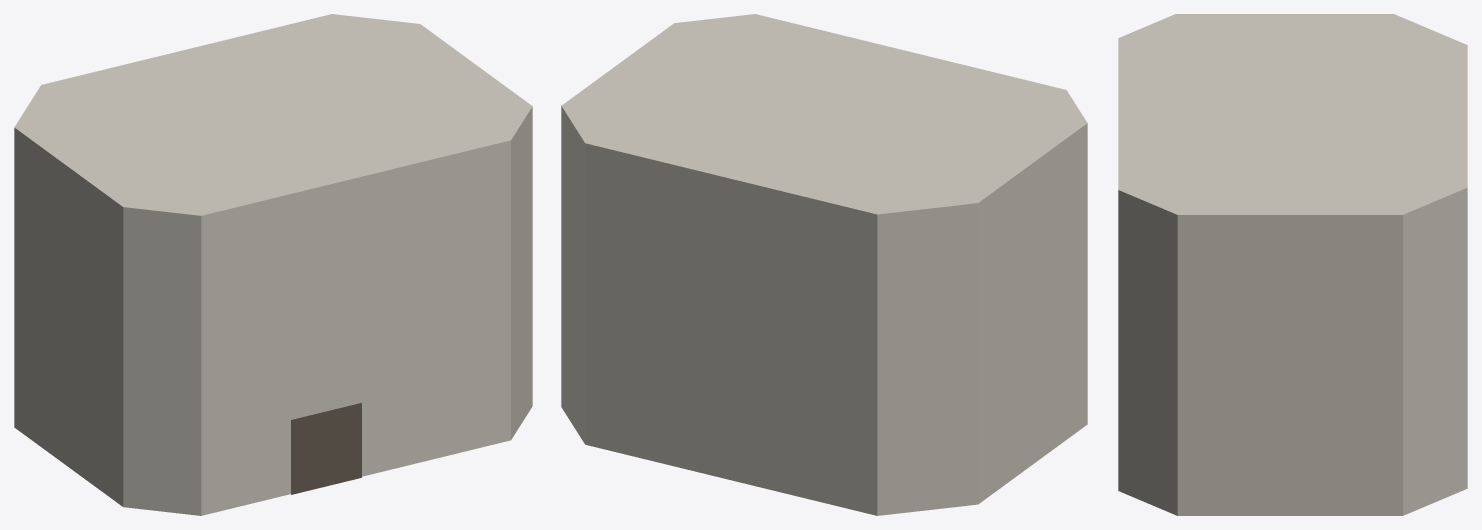
File: loin-etape-1.glb
3 renders of one model, left to right at view 1: azimuth 30°, elevation 25°; view 2: azimuth 150°, elevation 25°; view 3: azimuth 270°, elevation 25°, orthographic.
Parts seen in each view (by area): view 1: loin; view 2: loin; view 3: loin.
Boxes of the visible parts, x1,y1,x2,y2 form: loin: [14, 14, 532, 515]; loin: [561, 14, 1087, 515]; loin: [1118, 14, 1467, 515].
Bounding box in the file's own units: 0.8447 × 0.5902 × 0.6245.
